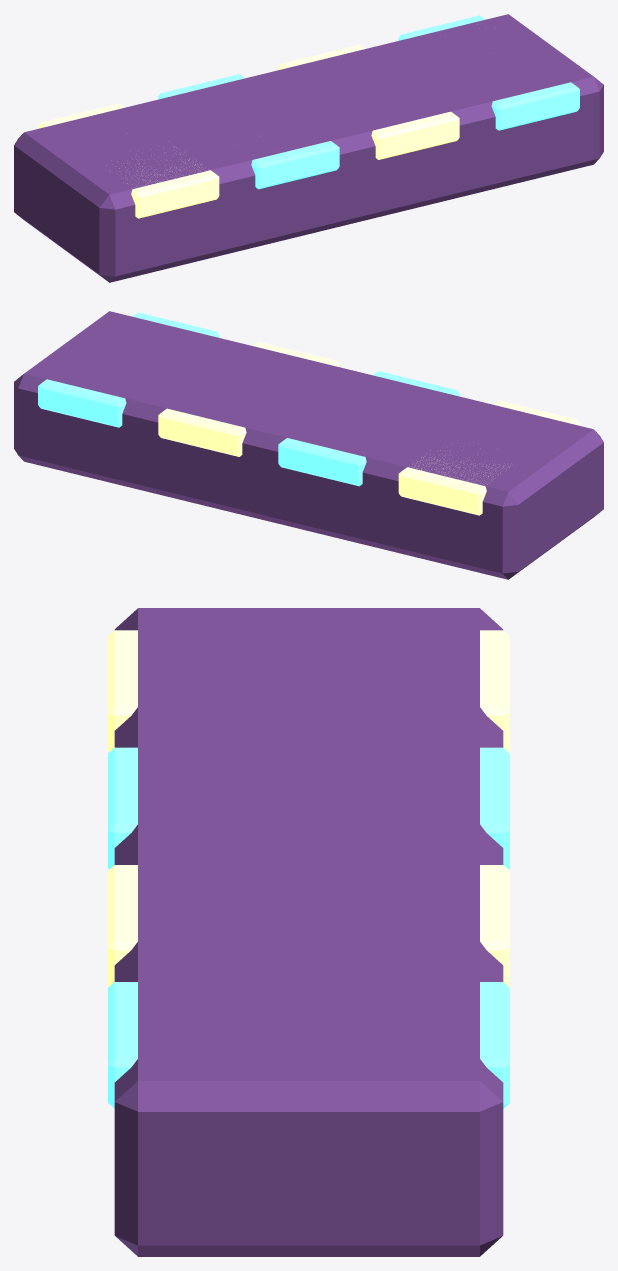
3 views of the same model, one above another, from view 1: azimuth 30°, elevation 25°; view 2: azimuth 150°, elevation 25°; view 3: azimuth 270°, elevation 25° (orthographic). The views are drawn at different scales.
Parts seen in each view (by area): view 1: SliderVisual; view 2: SliderVisual; view 3: SliderVisual.
Part boxes in pixels (box(x1,y1,x2,y2)): SliderVisual: box(14, 14, 603, 282); SliderVisual: box(14, 311, 603, 579); SliderVisual: box(108, 608, 509, 1256).
Bounding box in the file's own units: 0.42 × 0.07 × 0.145.
